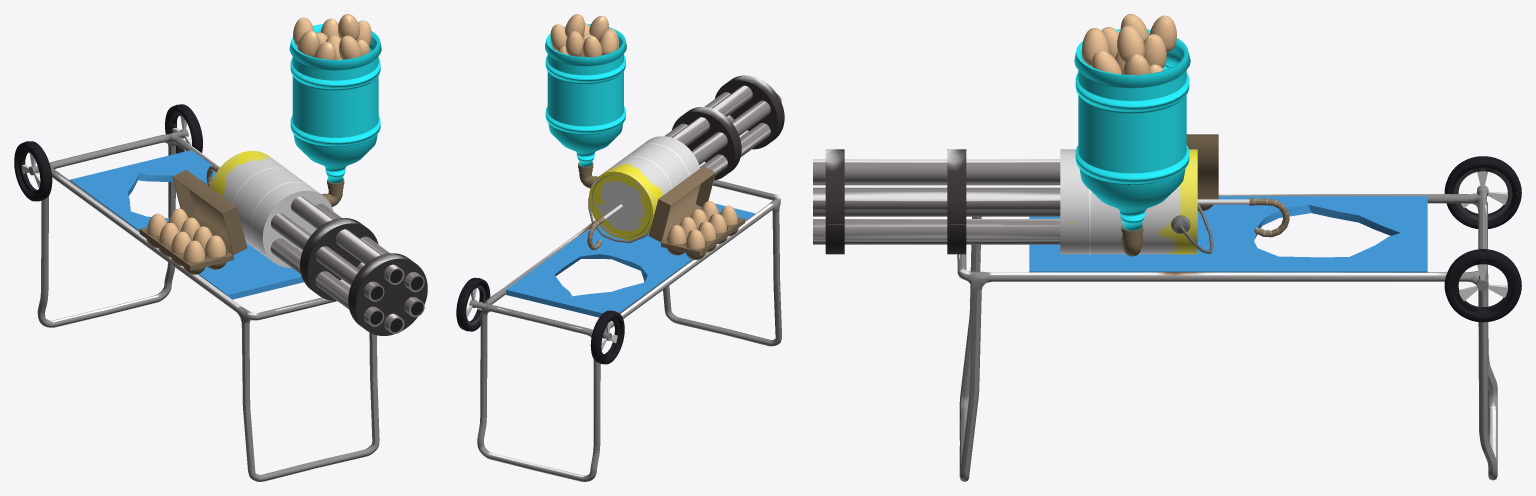
File: Machineggun.obj
The picture shows the model from 3 angles, left to right: view 1: azimuth 30°, elevation 25°; view 2: azimuth 150°, elevation 25°; view 3: azimuth 270°, elevation 25°; orthographic projection. The views are drawn at different scales.
Visible parts, largest first — view 1: GumEGG; view 2: GumEGG; view 3: GumEGG.
Part boxes in pixels (x1,y1,x2,y2): GumEGG: (14, 14, 427, 481); GumEGG: (456, 14, 784, 481); GumEGG: (813, 14, 1521, 481).
Size of the model in its own units: 7.66 by 13.42 by 17.84.
